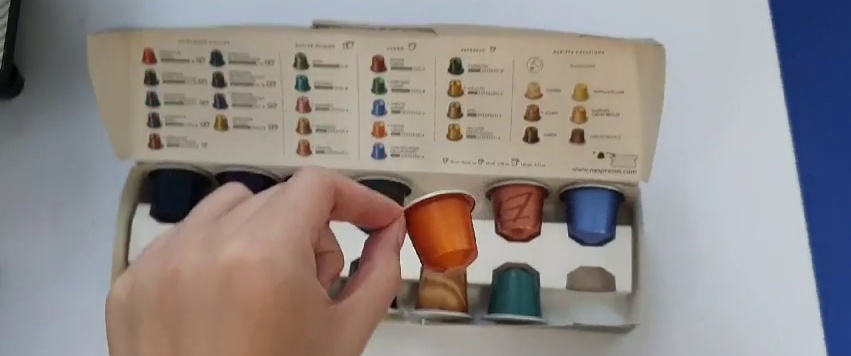capsule_5: (396, 188, 483, 276)
